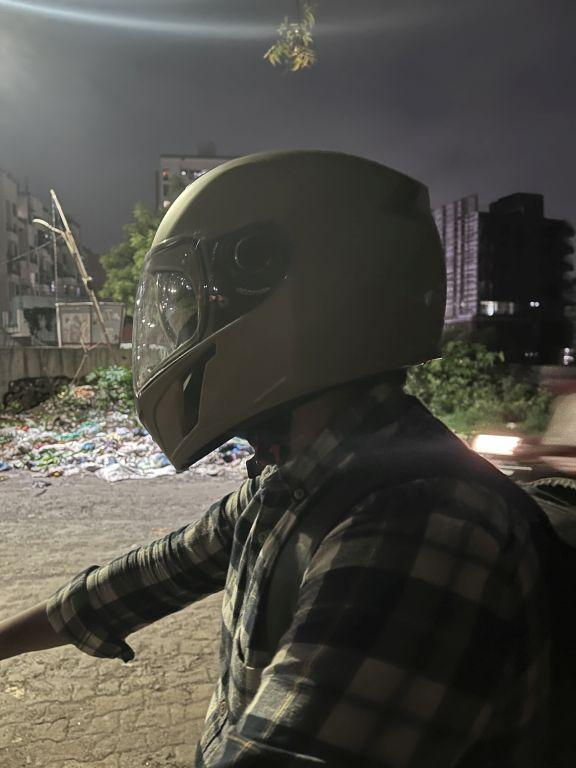helmet: (122, 140, 460, 483)
